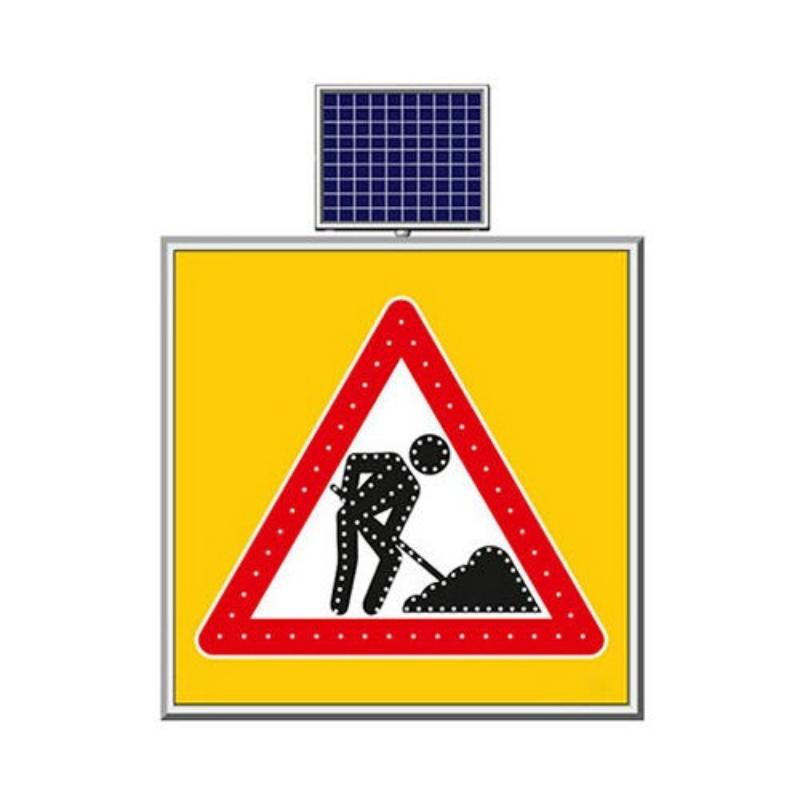Road_workahead: (153, 231, 651, 725)
